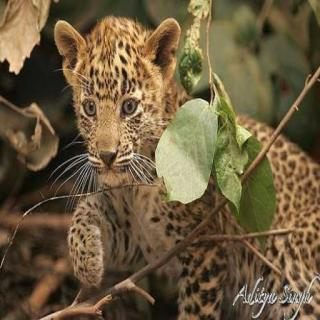Leopard: (57, 1, 316, 303)
